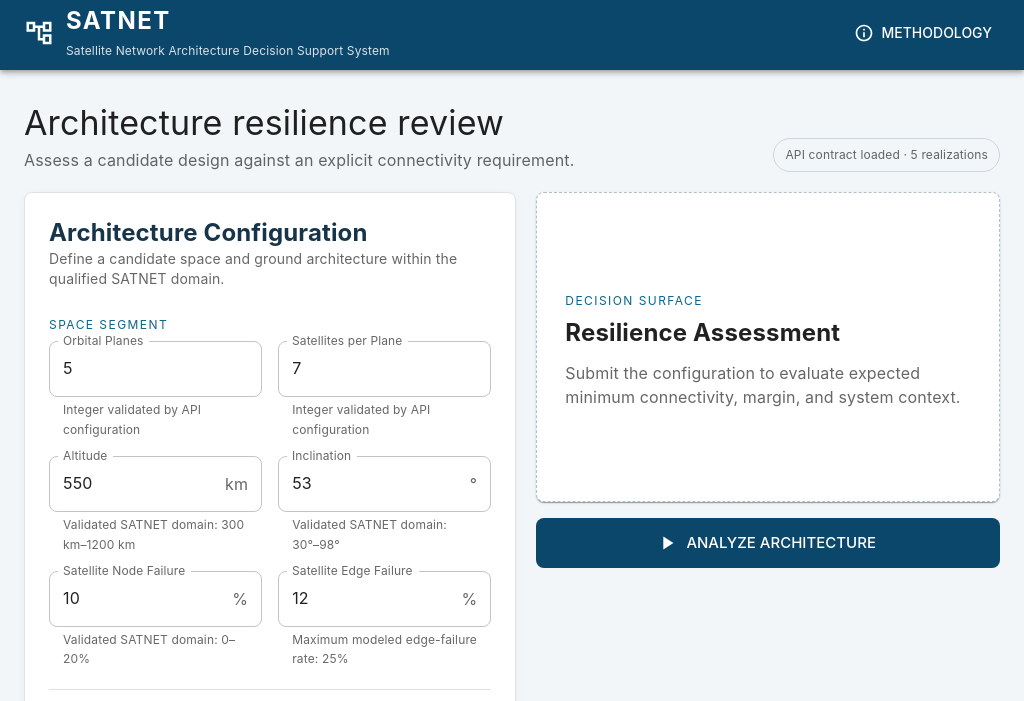
SATNET DSS UI › renders expected connectivity, threshold, margin, assessment, and realization warning
Click the button with test id "analyze-button". click: (768, 543)
box: [536,518,1000,568]
(page scrolled)
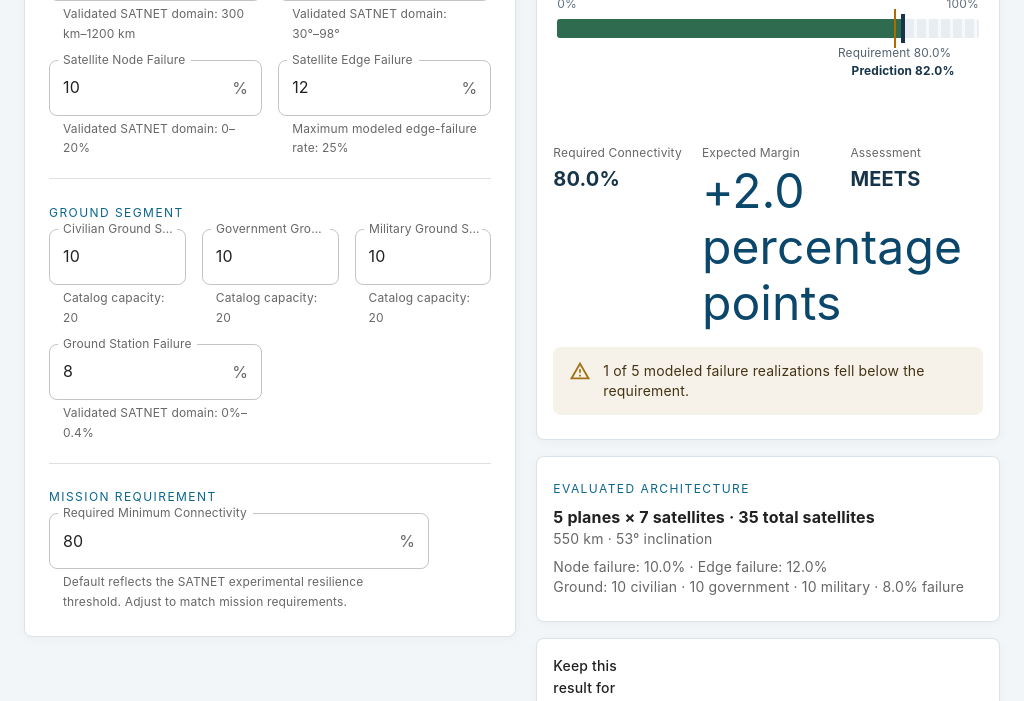
Expected: the text "Required Connectivity" is shown, [553,145,682,160]
Expected: the heading "+2.0 percentage points" is shown, [702,163,834,331]
Expected: the text "1 of 5 modeled failure realizations fell below the requirement." is shown, [603,353,967,409]
